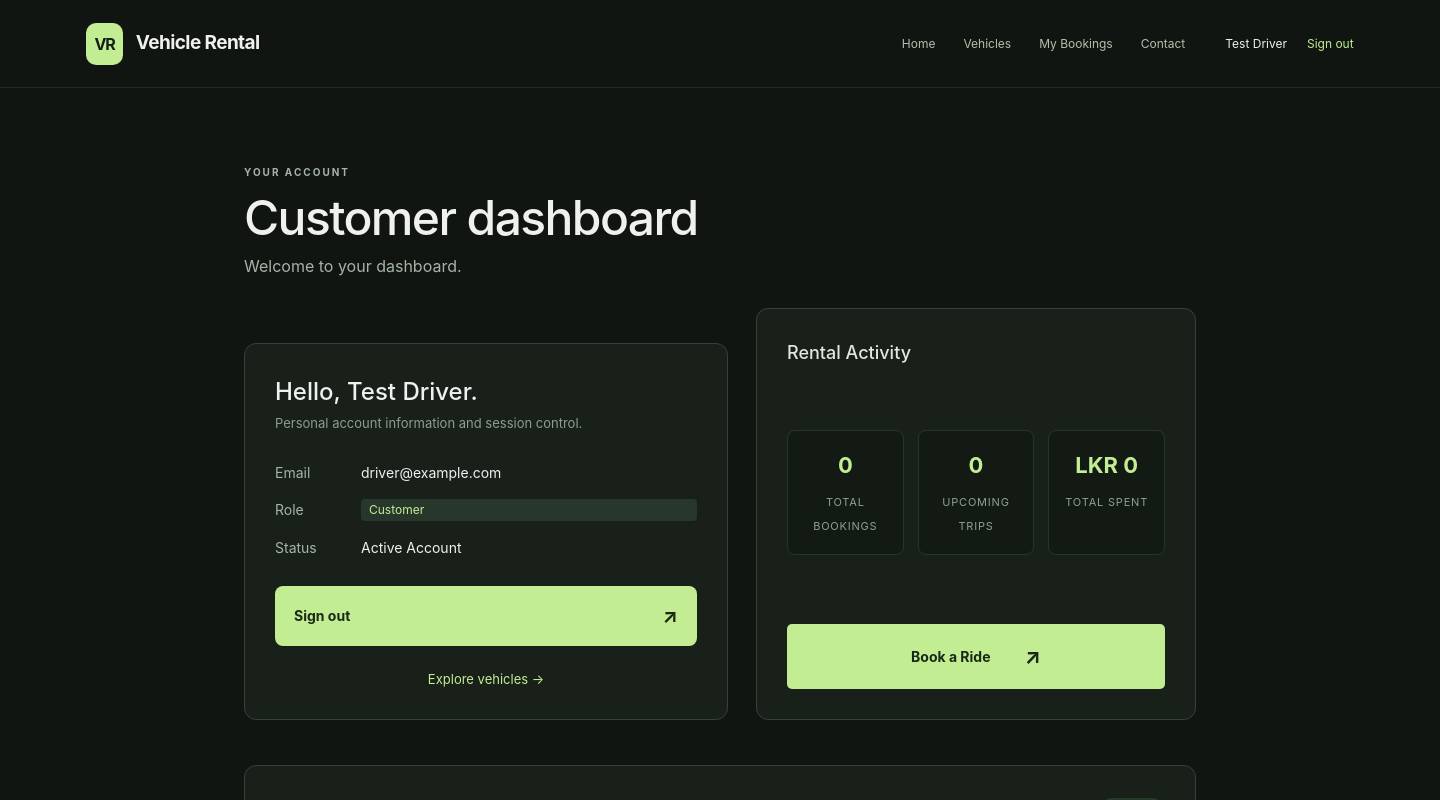
it: authentication UI › restores the customer profile and logs out
The width and height of the screenshot is (1440, 800).
Click the button "Sign out ↗" at (322, 616), box [275,586,697,646]
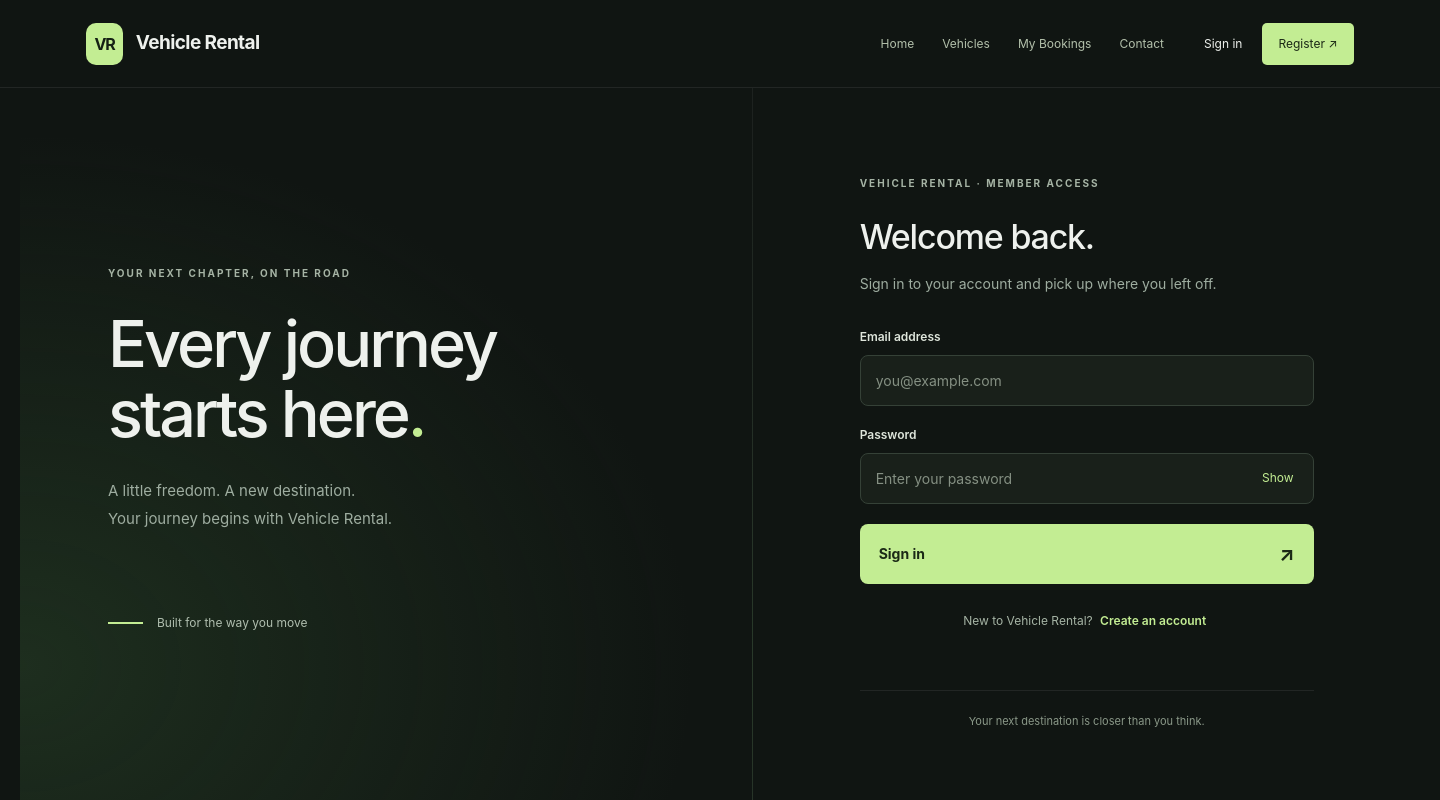
Expected: the heading "Welcome back." is shown, [860,216,1094,257]
